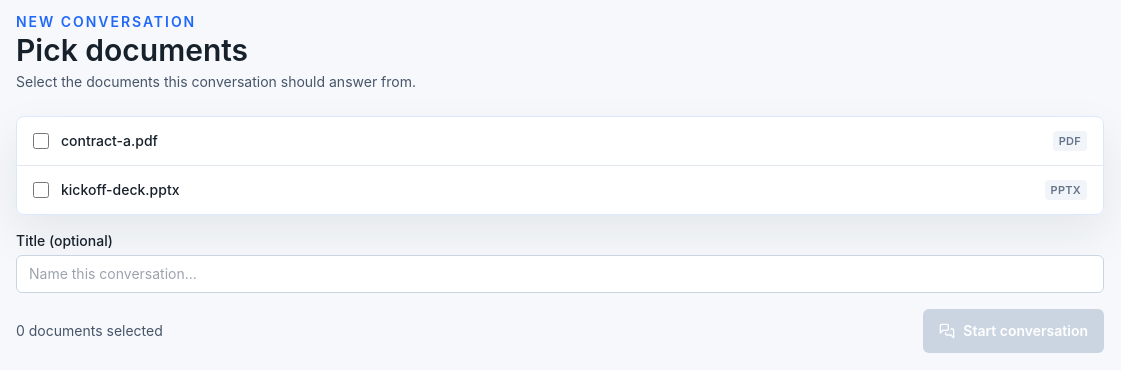
Scenario: ScopePicker › disables start until a document is selected and tracks the count
Expected: the button "Start conversation" is disabled, x1=923 y1=309 x2=1104 y2=353
Expected: the text "0 documents selected" is shown, x1=16 y1=321 x2=163 y2=341
Click the checkbox labelled "contract-a.pdf pdf" at (41, 141), box x1=33 y1=133 x2=49 y2=149
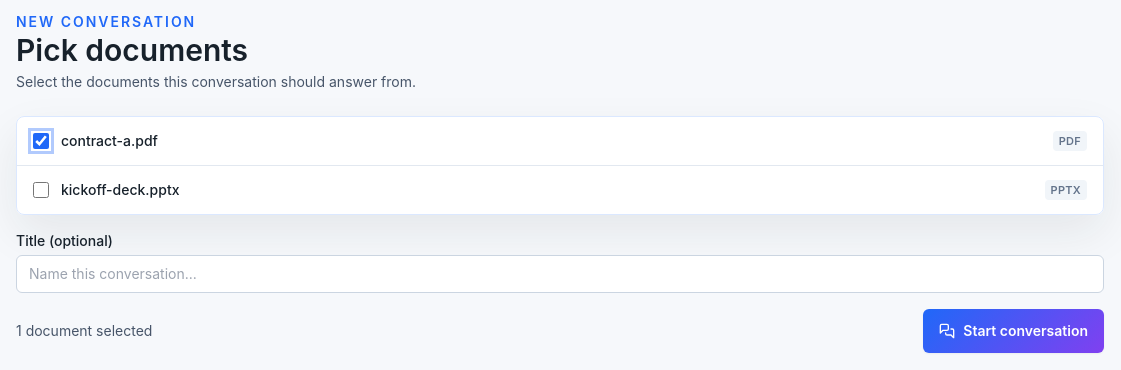
Result: the button "Start conversation" is enabled at x1=923 y1=309 x2=1104 y2=353
Result: the text "1 document selected" is shown at x1=16 y1=321 x2=152 y2=341
Click the checkbox labelled "kickoff-deck.pptx pptx" at (41, 190), box x1=33 y1=182 x2=49 y2=198
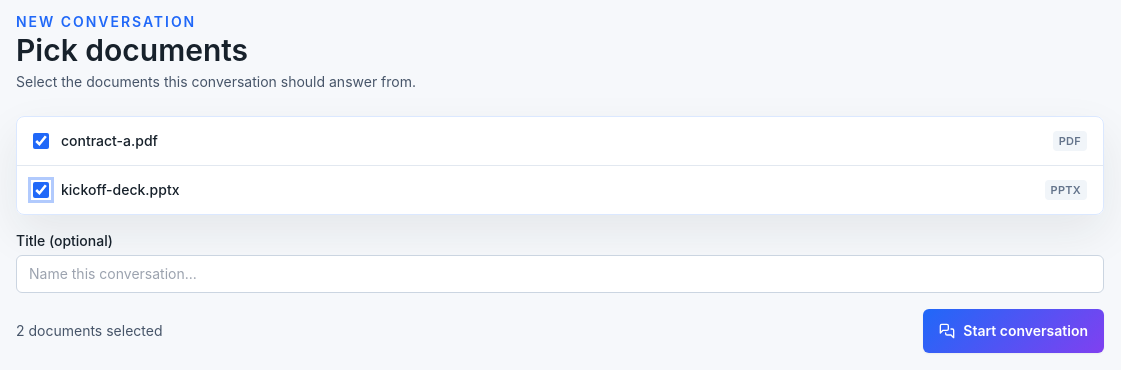
Result: the text "2 documents selected" is shown at x1=16 y1=321 x2=162 y2=341
Click the checkbox labelled "contract-a.pdf pdf" at (41, 141), box x1=33 y1=133 x2=49 y2=149
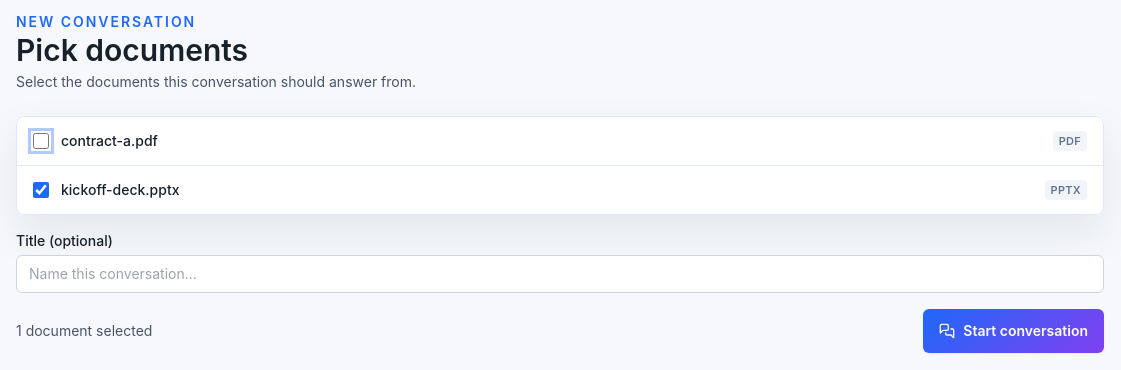
Result: the text "1 document selected" is shown at x1=16 y1=321 x2=152 y2=341
